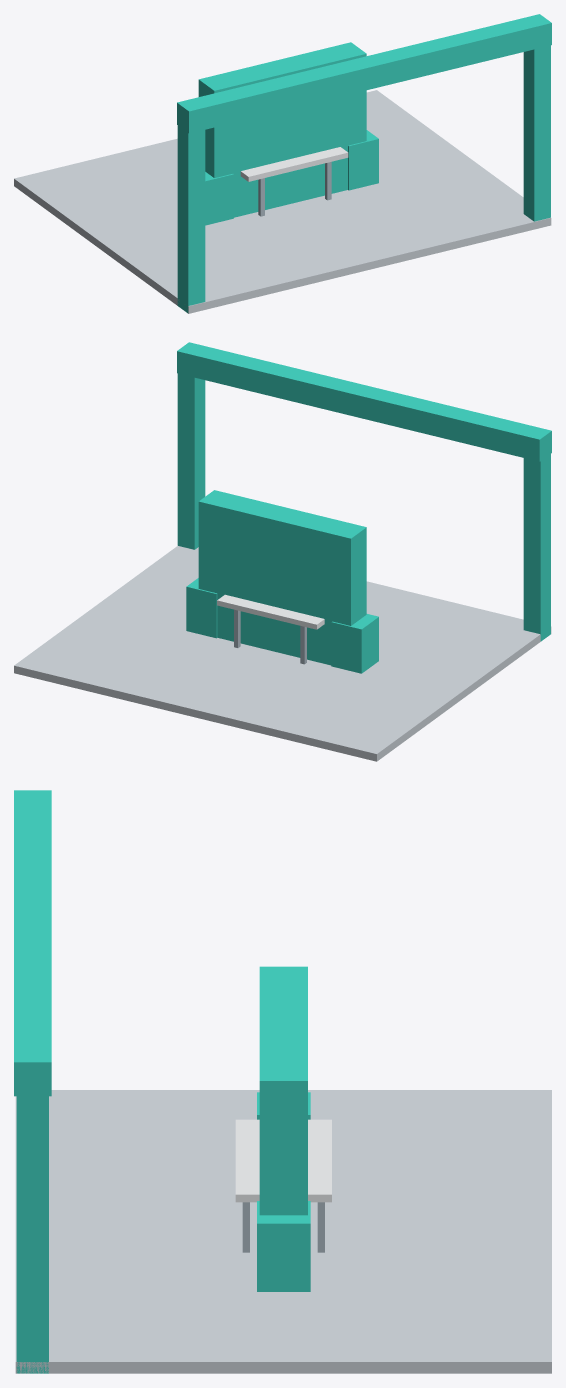
3 renders of one model, top to bottom at view 1: azimuth 30°, elevation 25°; view 2: azimuth 150°, elevation 25°; view 3: azimuth 270°, elevation 25°, orthographic. The views are drawn at different scales.
Parts seen in each view (by area): view 1: Exhibition Booth Concept; view 2: Exhibition Booth Concept; view 3: Exhibition Booth Concept.
Boxes of the visible parts, x1,y1,x2,y2 form: Exhibition Booth Concept: (14,14,551,313); Exhibition Booth Concept: (14,342,551,761); Exhibition Booth Concept: (14,790,551,1373).
Size of the model in its own units: 6 by 3.2 by 5.02.
